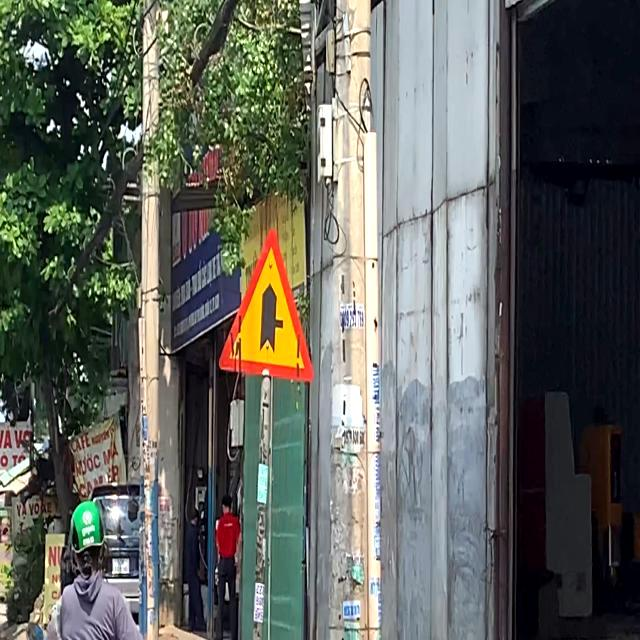Giao nhau voi duong khong uu tien ben phai: (211, 212, 321, 388)
